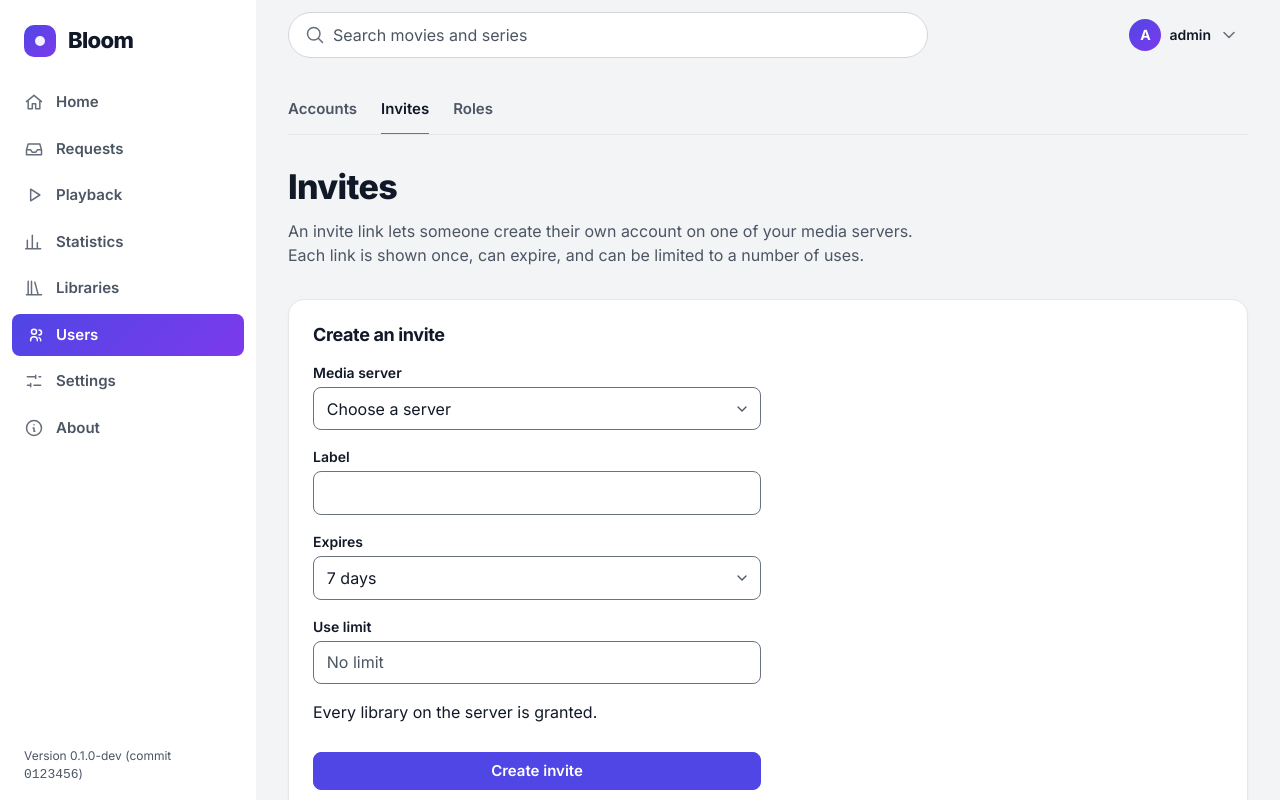
reports a server that disappeared
Select "Cabin" in the dropdown labelled "Media server" at x=537, y=409, box 313,387 -> 761,430
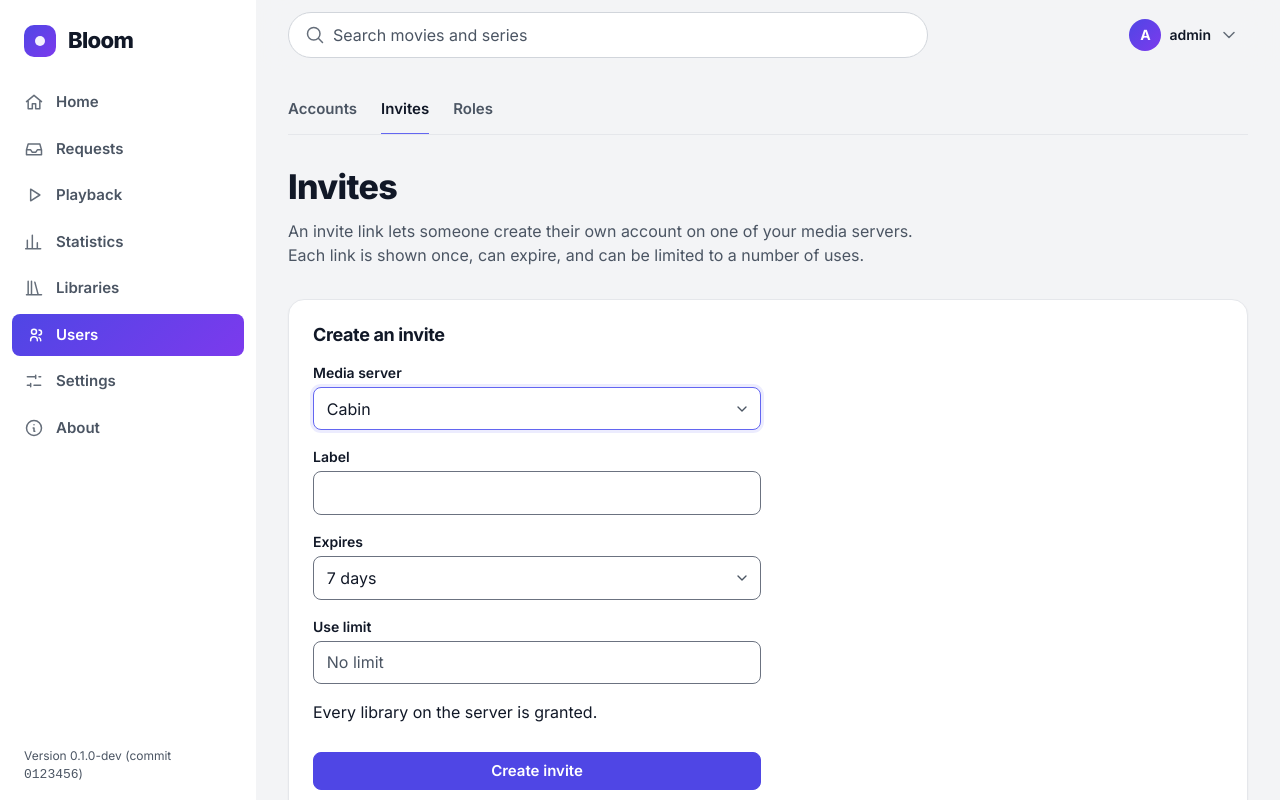
Type "Attic" into the field labelled "Label" at x=537, y=493, box 313,472 -> 761,515
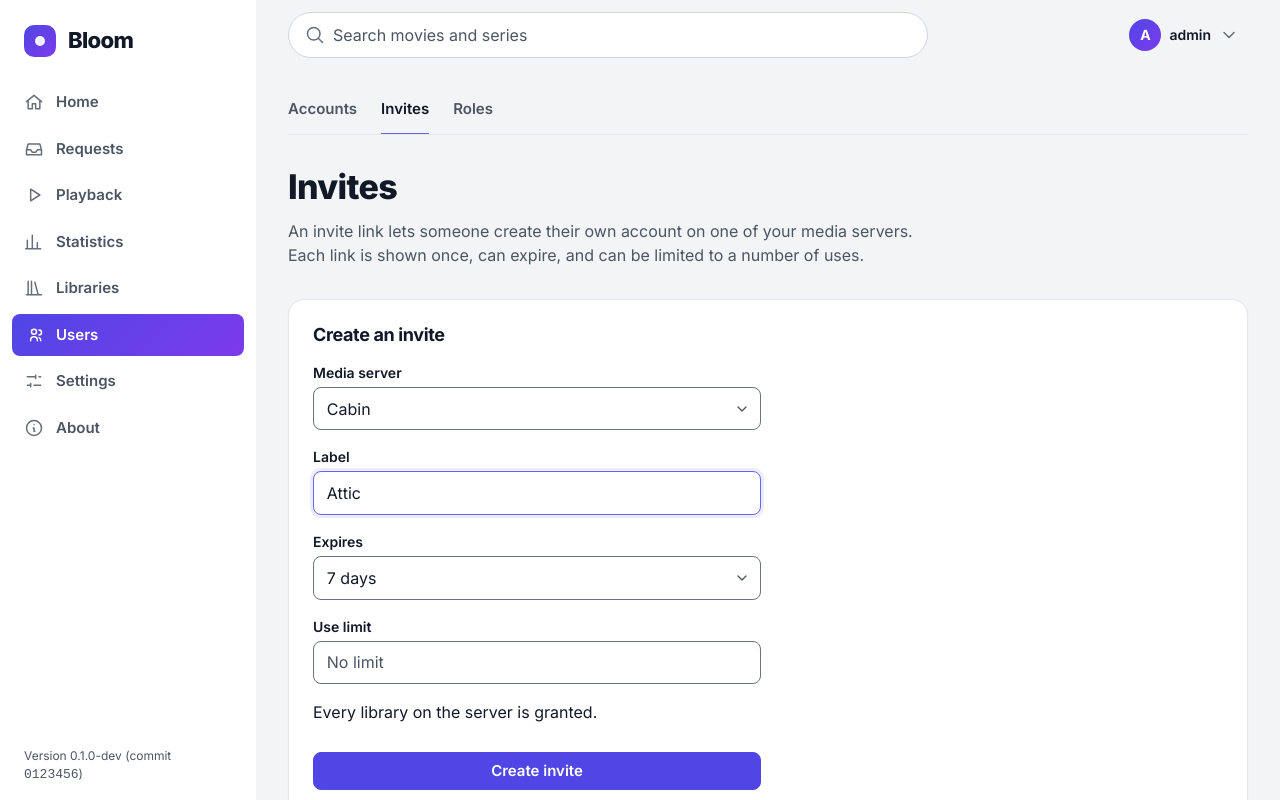
Click the button "Create invite" at x=537, y=771, box 313,752 -> 761,790
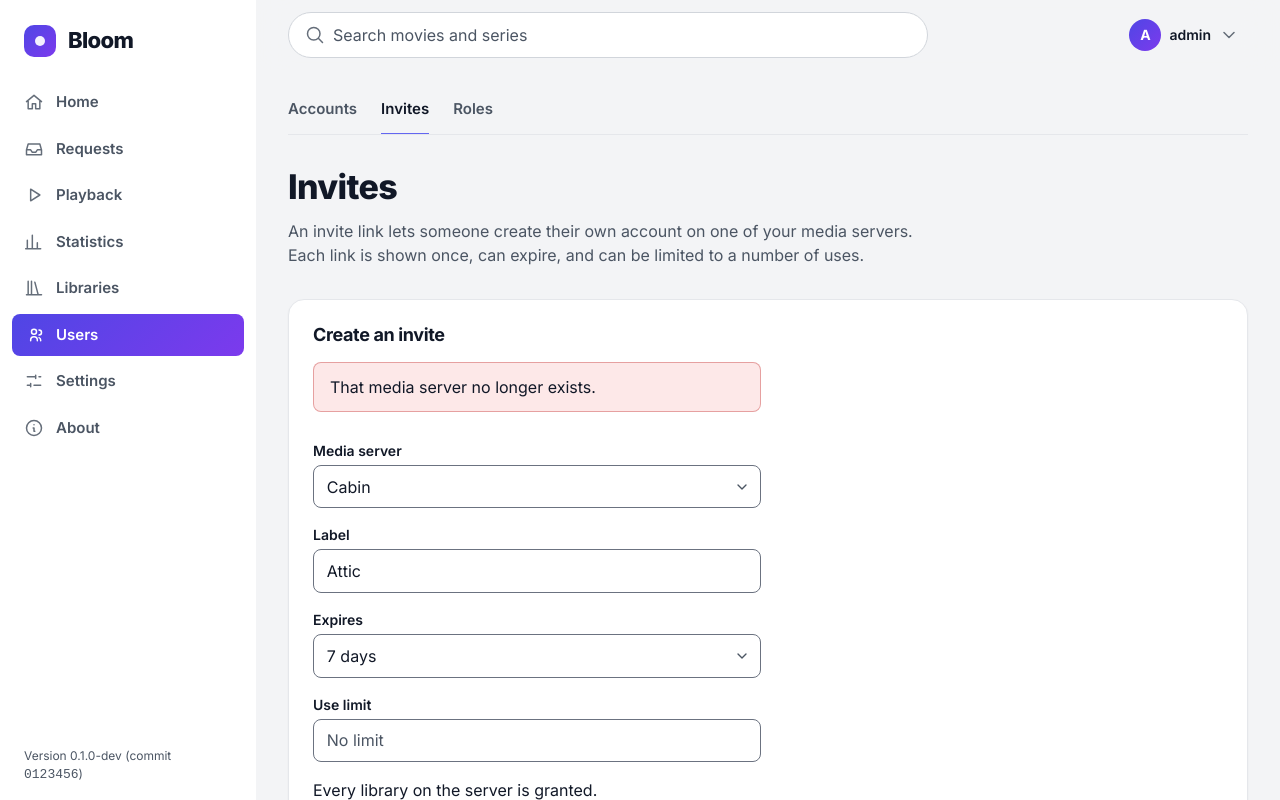
Result: the message reads "That media server no longer exists." at 330,377 -> 596,397
